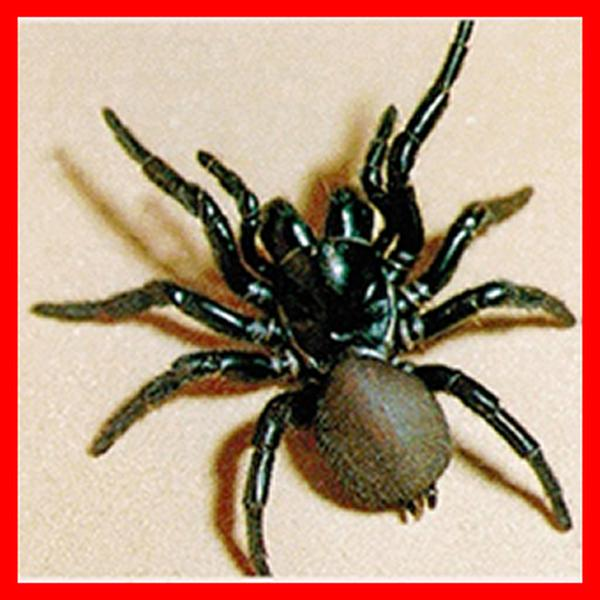Funnel Web Spider: (67, 42, 563, 546)
